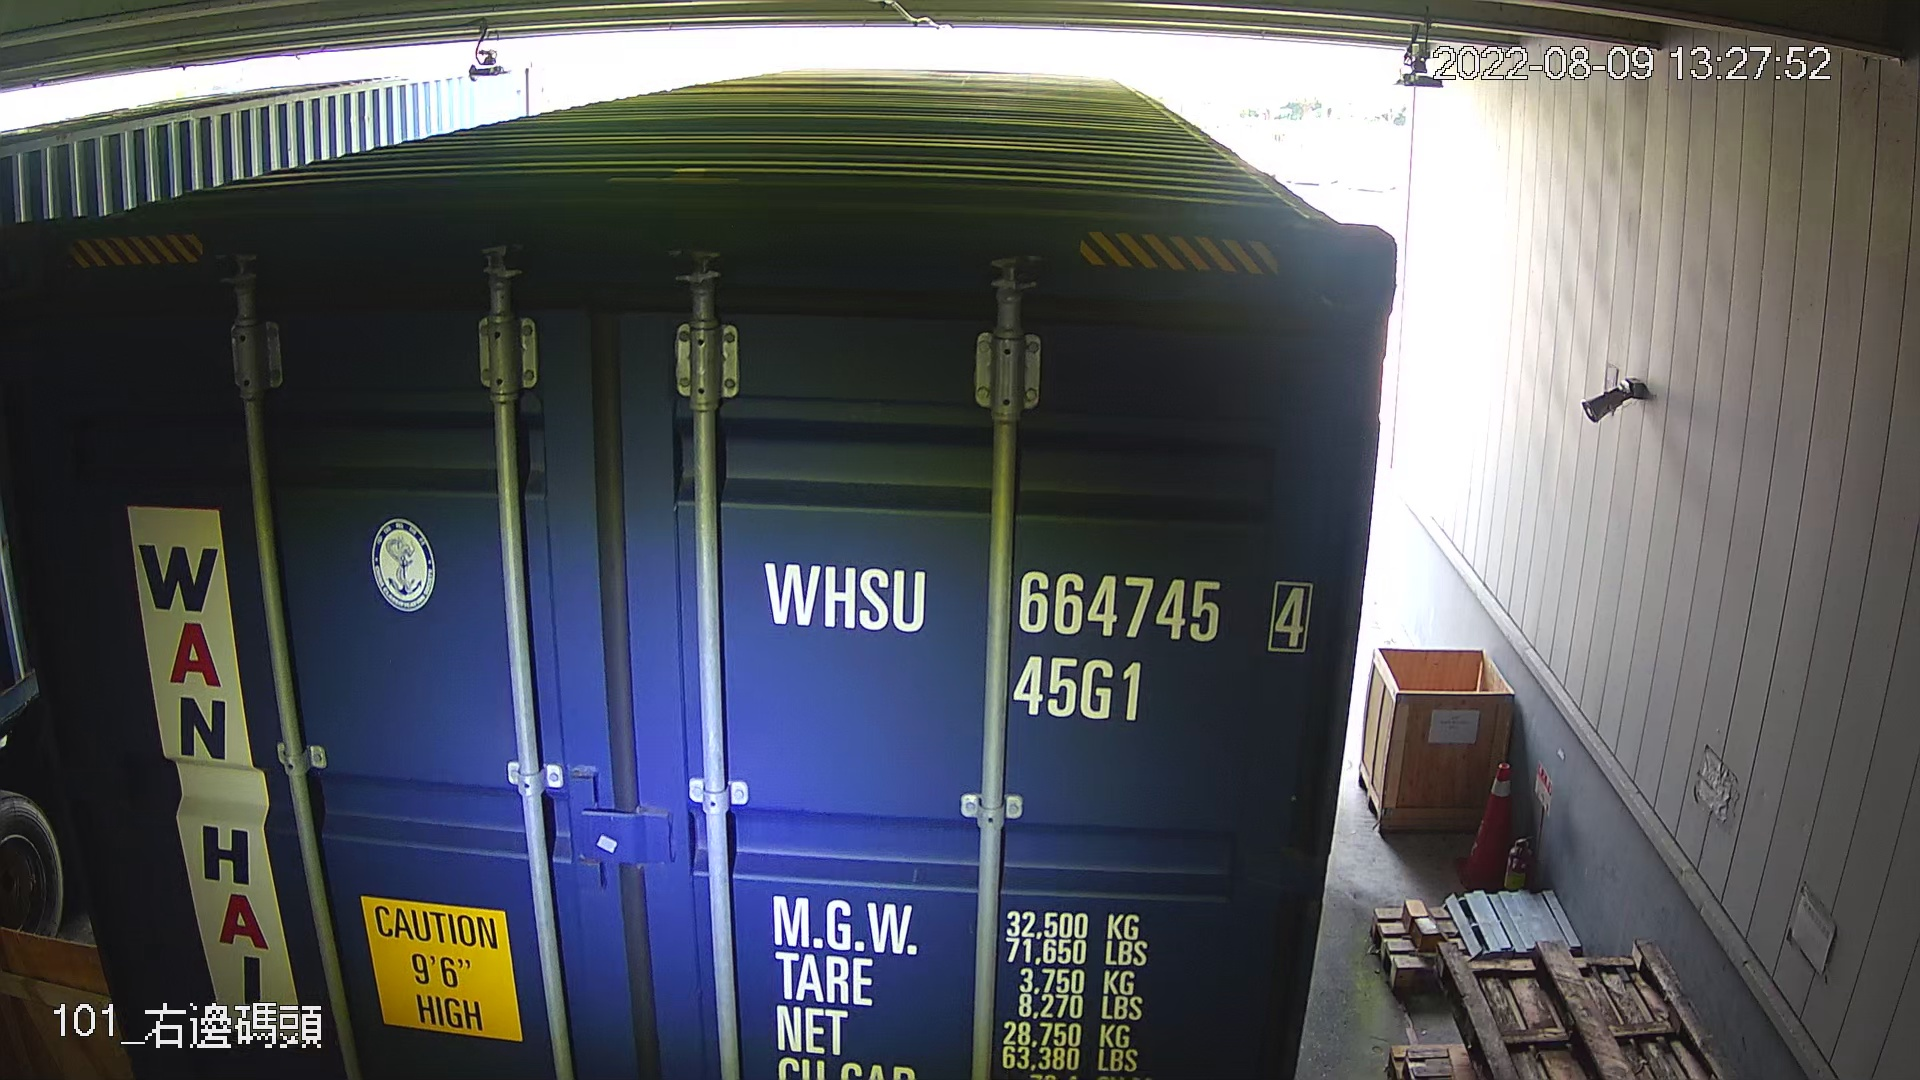container: (745, 541, 1323, 732)
